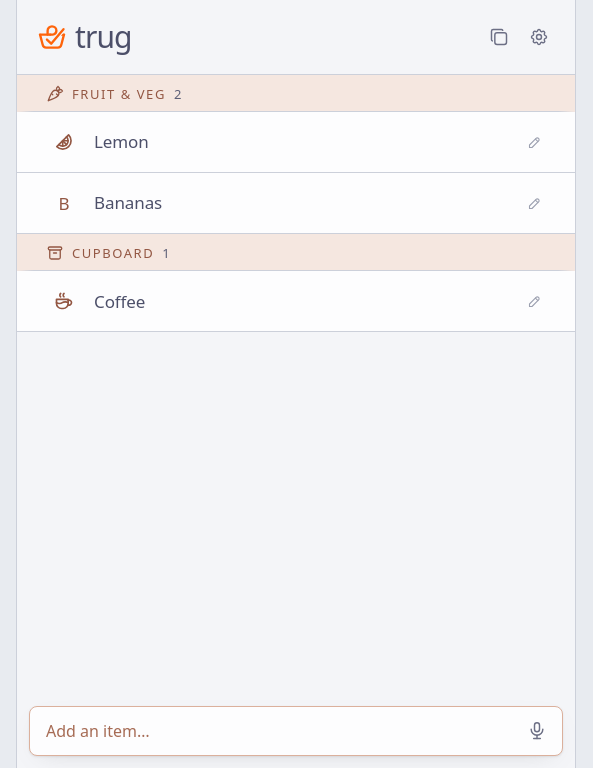
Test: App copy-list button › shows an honest failure toast when the clipboard write is blocked
This screenshot has width=593, height=768.
Click the button named "copy list".
click(499, 37)  # box [483,21,515,53]
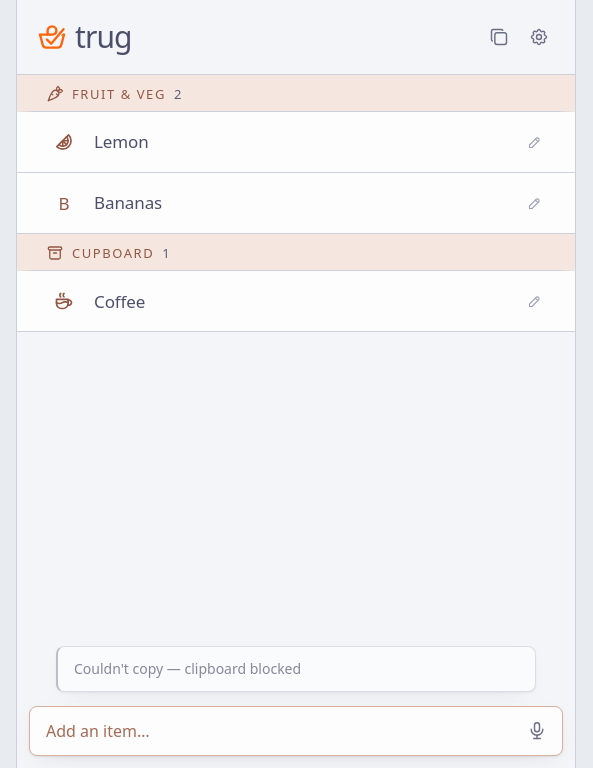
Expected: the text "Couldn't copy — clipboard blocked" is shown, [56,646,536,692]
